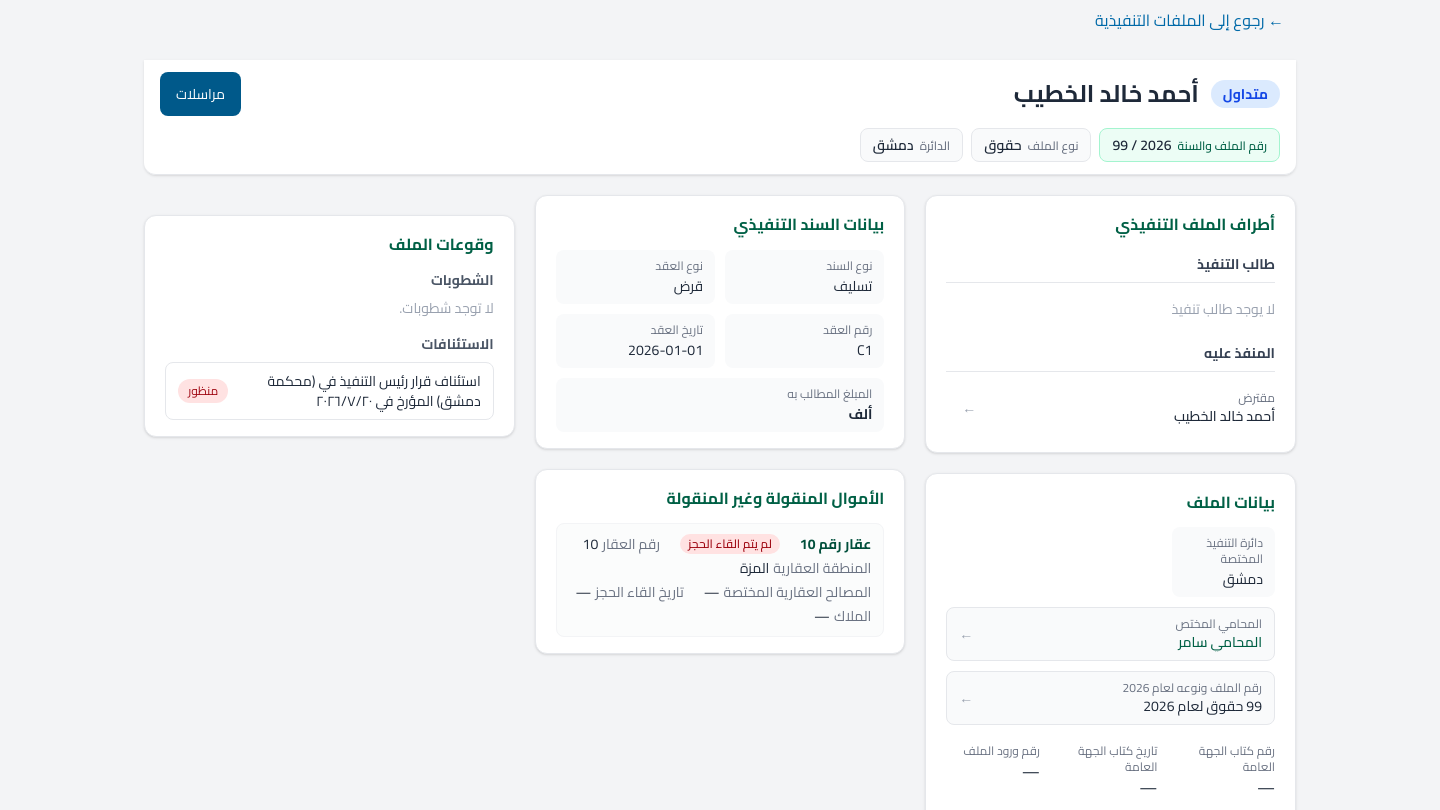
PortalFileDetail المرآة القرائية › نافذة الاستئناف تُبقي اسم المحامي وسطر «سطّره» وتخفي رأيه (ق9/ق10)
Click the button with aria-label "عرض تفاصيل استئناف".
click(329, 391)  # box [165,362,494,420]
(page scrolled)
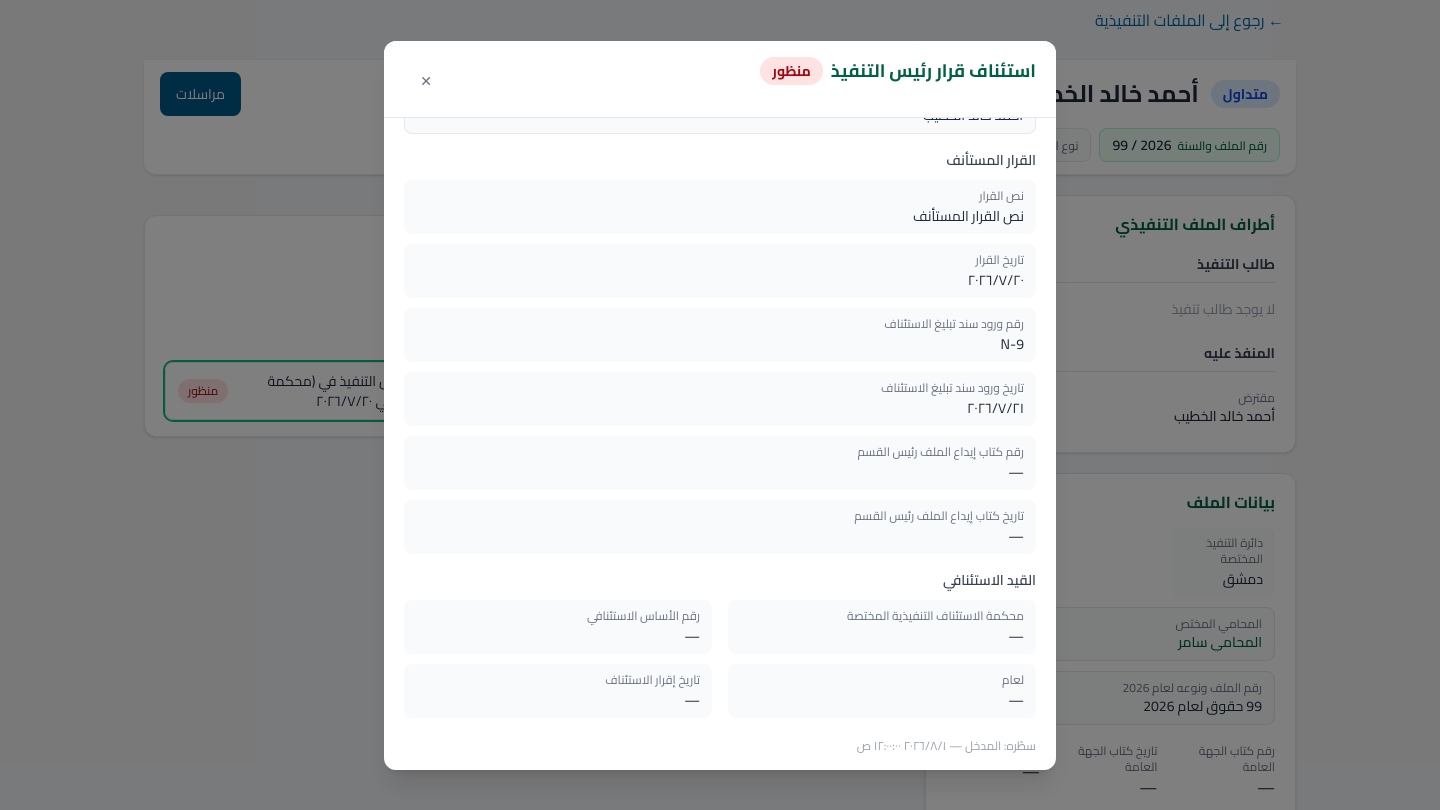
Expected: the text "سطّره: المدخل — ١ /٨ /٢٠٢٦ ١٢:٠٠:٠٠ ص" is shown, [857,734,1036,756]
